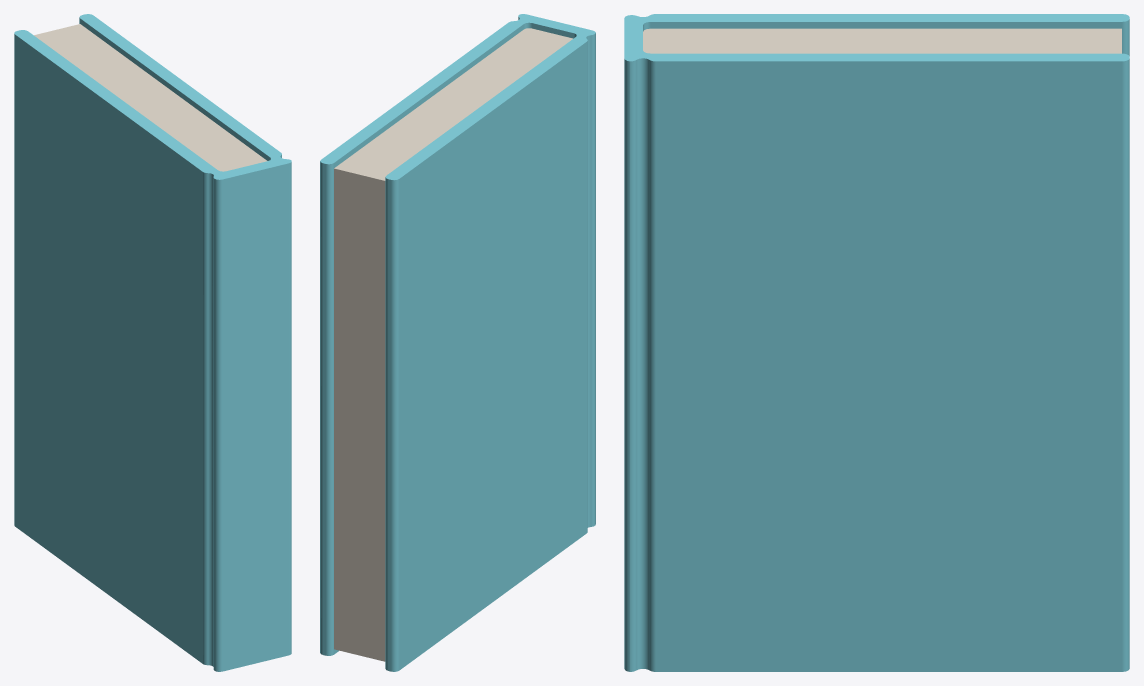
The model's file is MovingBook.glb.
3 renders of one model, left to right at view 1: azimuth 30°, elevation 25°; view 2: azimuth 150°, elevation 25°; view 3: azimuth 270°, elevation 25°, orthographic. The views are drawn at different scales.
Visible parts, largest first — view 1: MovingBook, MovingPages; view 2: MovingBook, MovingPages; view 3: MovingBook, MovingPages.
Boxes of the visible parts, <box> form: MovingBook: <box>14,14,291,671</box>; MovingPages: <box>34,24,267,171</box>; MovingBook: <box>320,14,595,671</box>; MovingPages: <box>334,28,572,661</box>; MovingBook: <box>624,14,1129,671</box>; MovingPages: <box>643,28,1121,53</box>.
Bounding box in the file's own units: 0.75 × 4.5 × 3.38.
